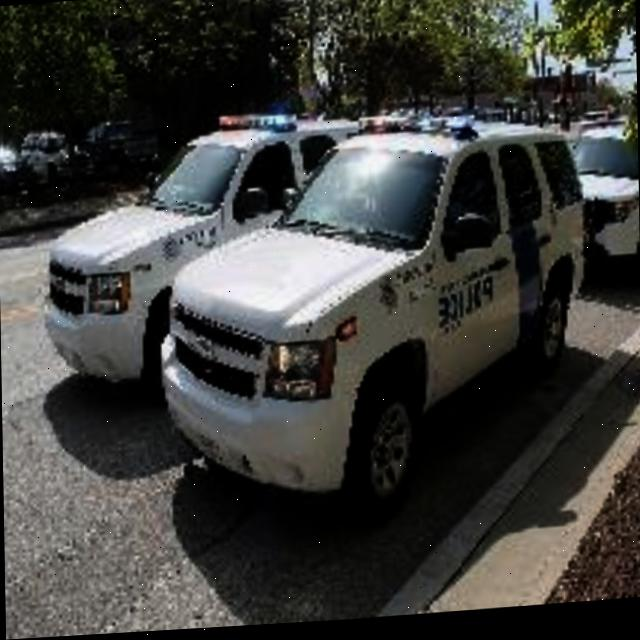emergency: (160, 109, 596, 530), (43, 109, 385, 403)
